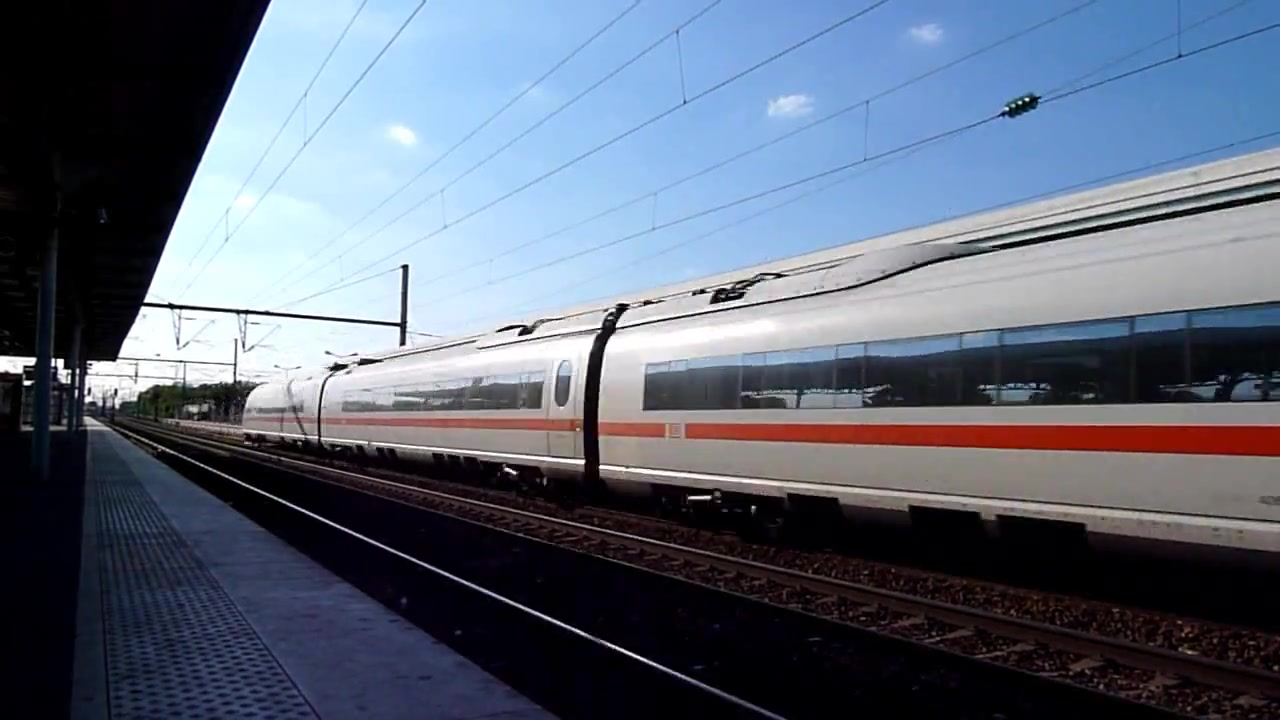train: (238, 144, 1280, 571)
